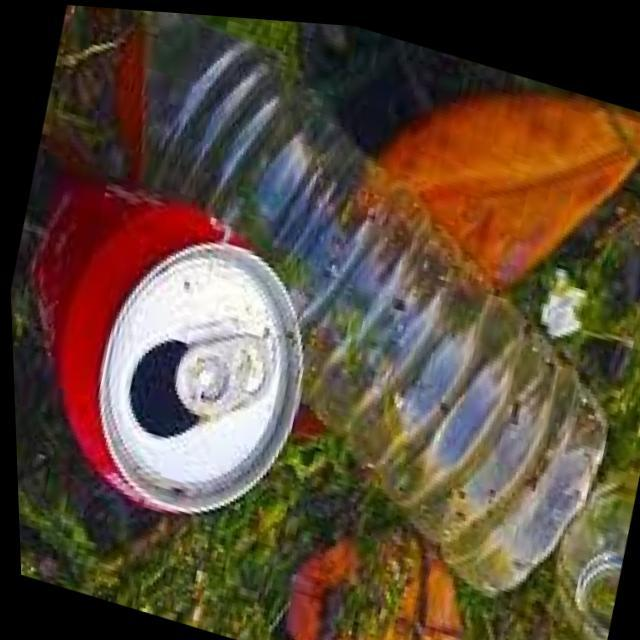clothes: (3, 127, 350, 557)
leaf: (21, 1, 640, 640), (538, 416, 640, 640)
plastic bag: (334, 26, 640, 342)
